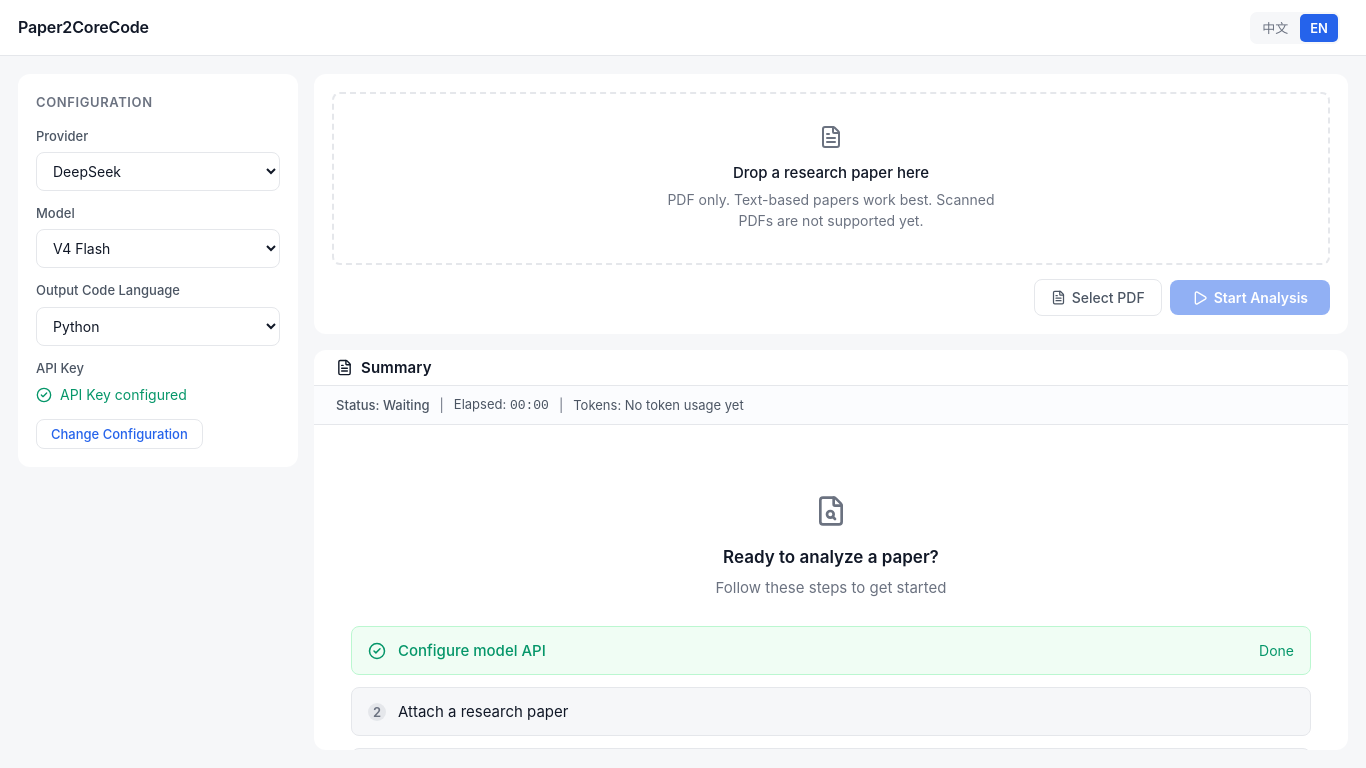
Scenario: App analysis flow › sets error status and message for failed analysis responses
Expected: the text "API Key configured" is shown, left=60, top=384, right=187, bottom=405
Step 1. Click the button "Select PDF" → (1098, 298), box left=1034, top=279, right=1162, bottom=316
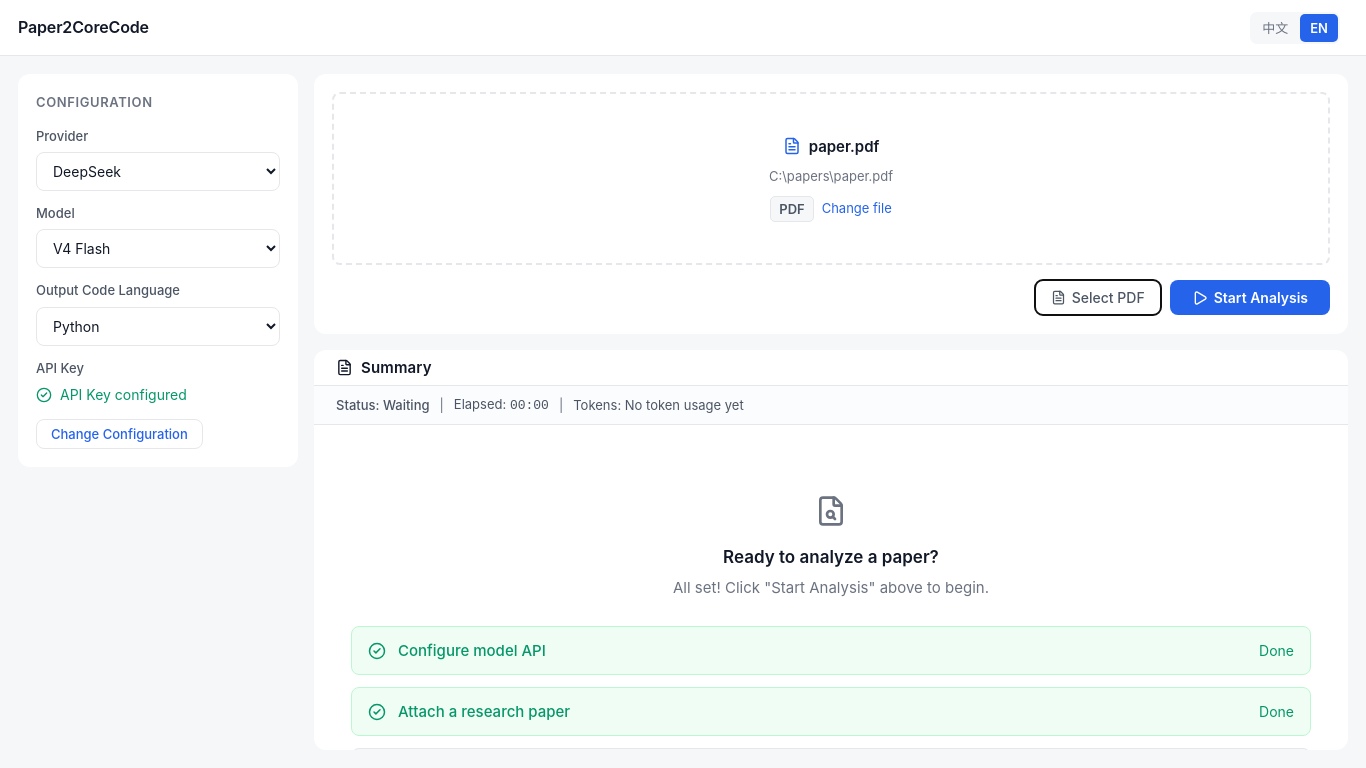
Step 2. Click the button "Start Analysis" → (1250, 298), box left=1170, top=280, right=1330, bottom=315
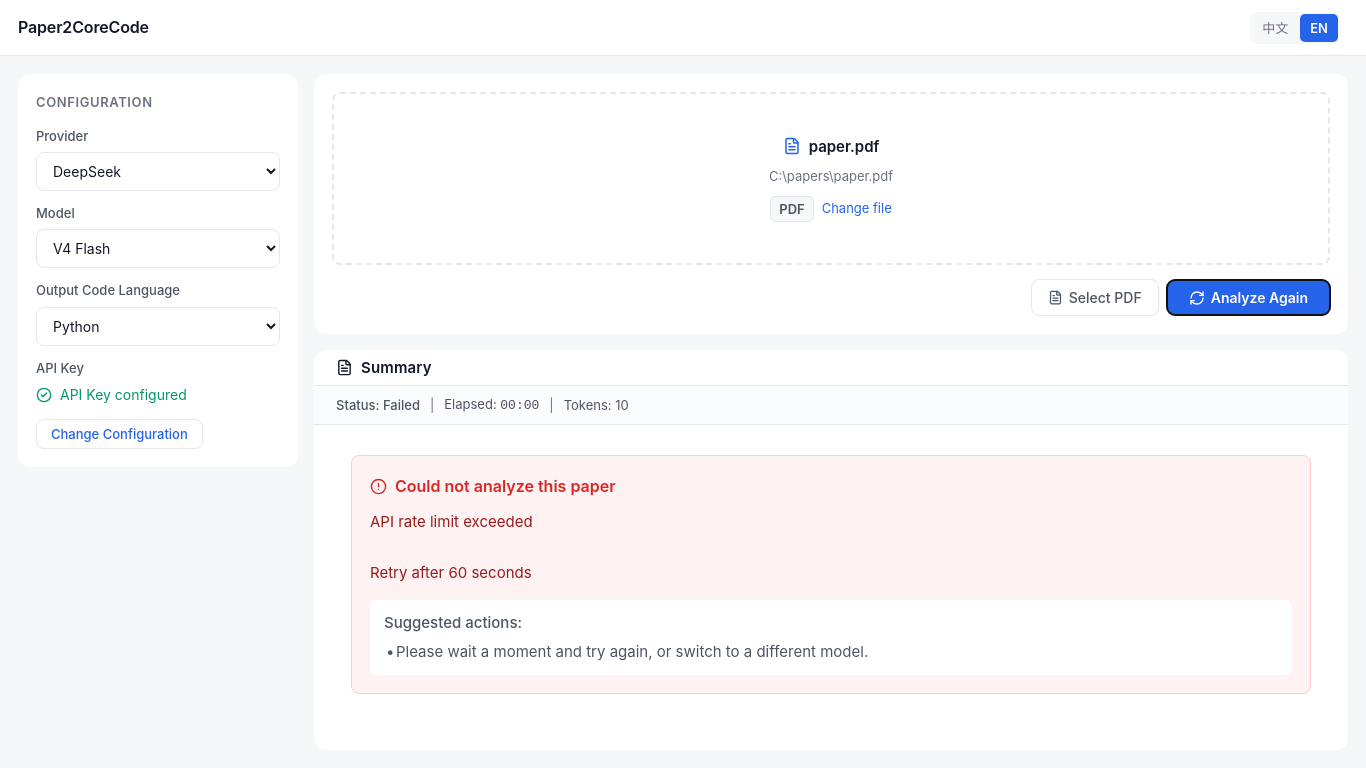
Expected: the text "Status: Failed" is shown, left=336, top=395, right=420, bottom=415
Expected: the text "API rate limit exceeded Retry after 60 seconds" is shown, left=370, top=512, right=533, bottom=582
Expected: the heading "Tokens: 10" is shown, left=564, top=395, right=629, bottom=415
